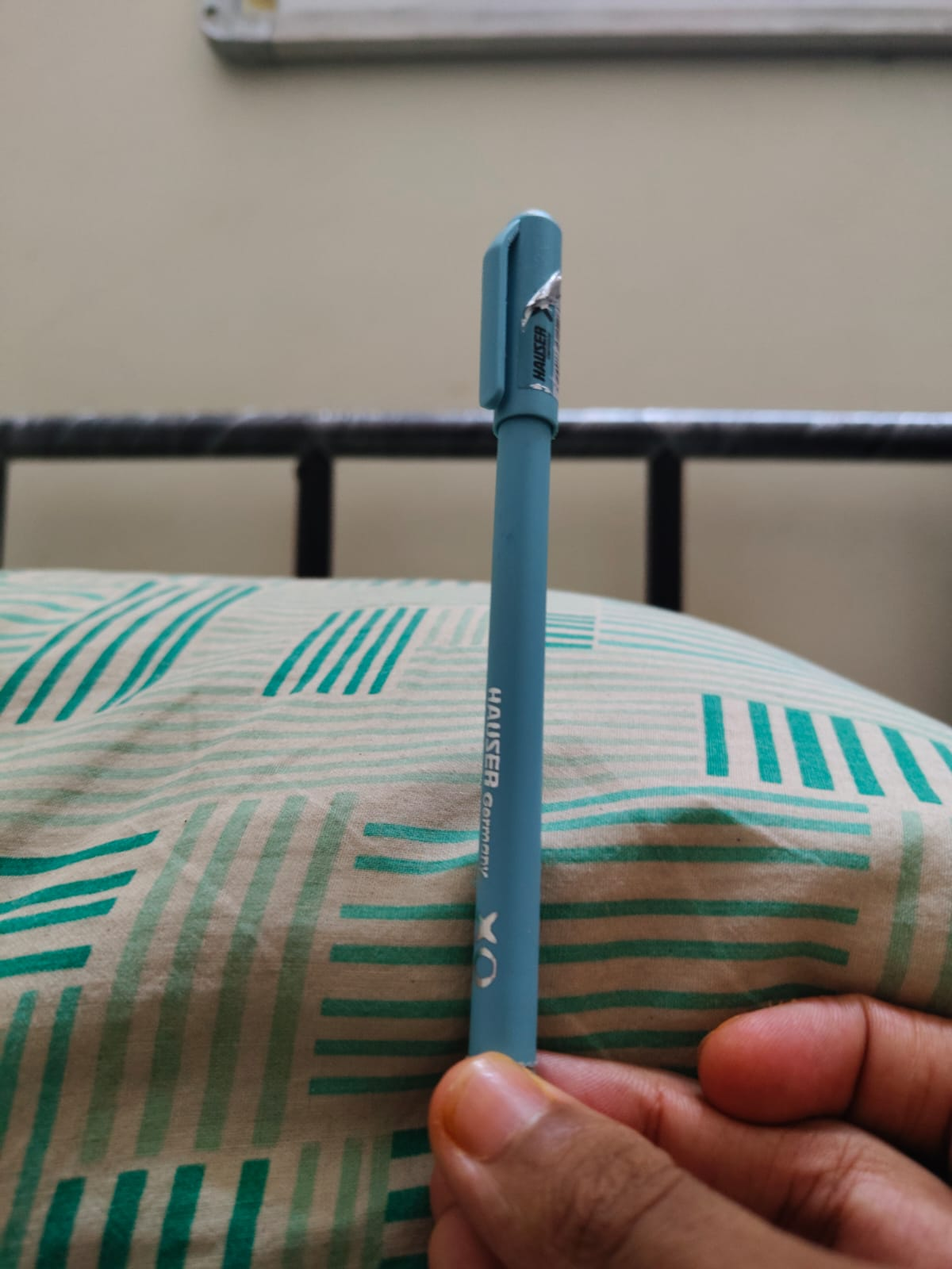pen: (449, 194, 583, 1073)
